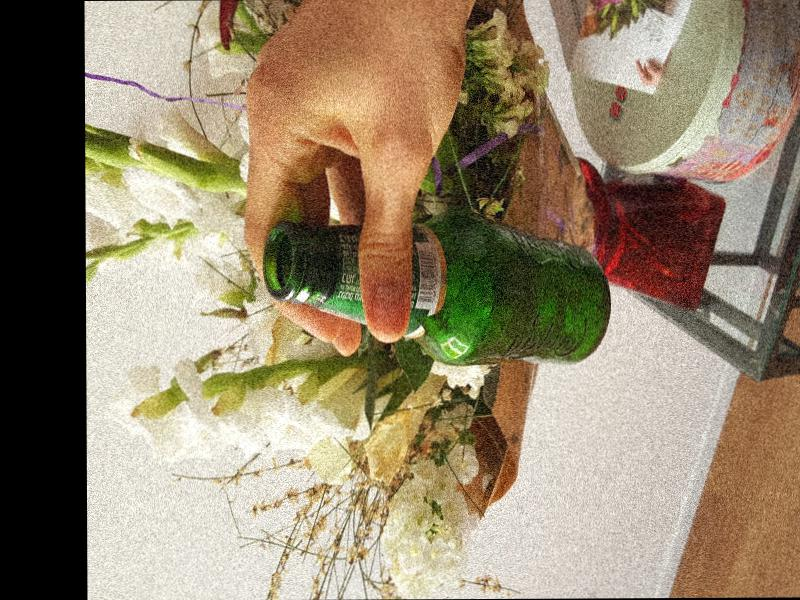Beer: (265, 211, 612, 368)
